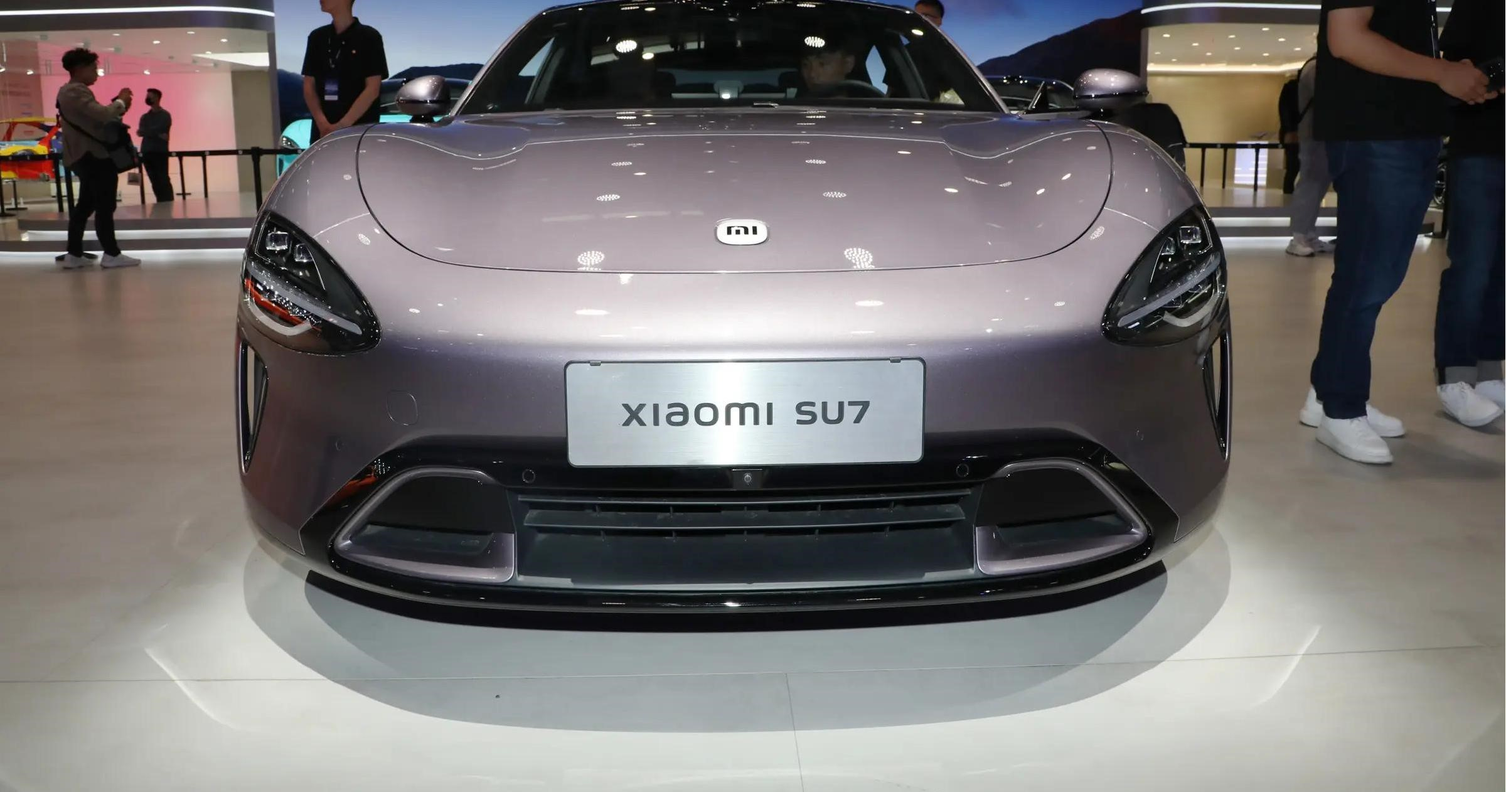XIAOMI: (716, 218, 768, 245)
